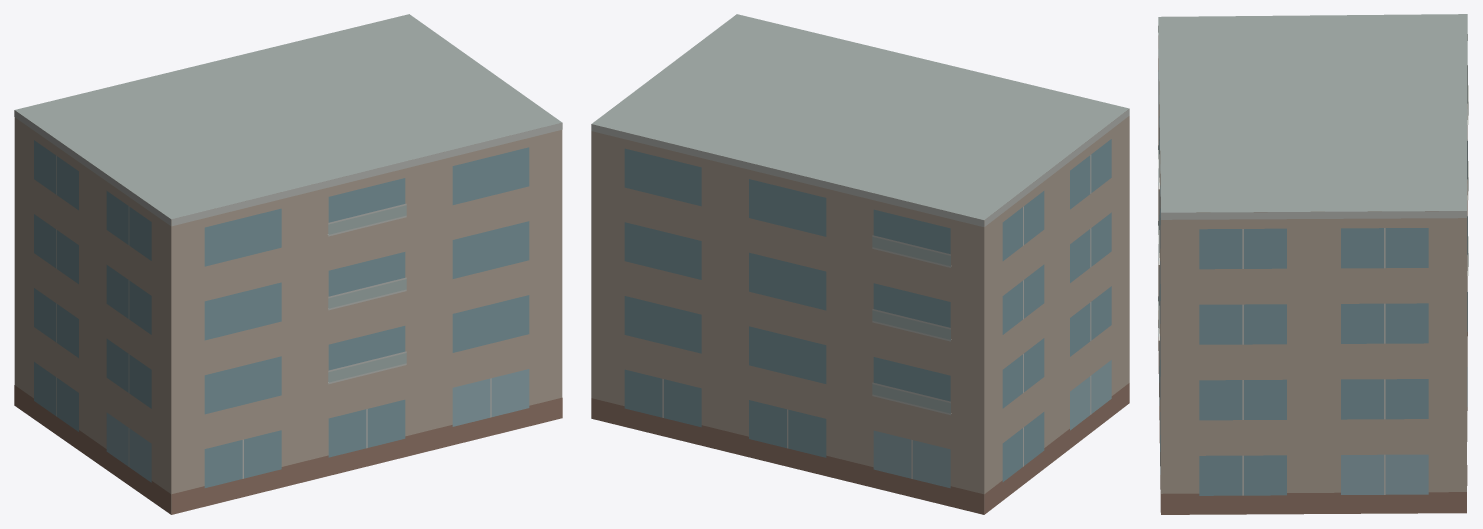
Rendered from survey-upis-33022140.glb.
3 views of the same model, side by side, from view 1: azimuth 30°, elevation 25°; view 2: azimuth 150°, elevation 25°; view 3: azimuth 270°, elevation 25° (orthographic). The views are drawn at different scales.
Visible parts, largest first — view 1: survey-upis-33022140.tmp; view 2: survey-upis-33022140.tmp; view 3: survey-upis-33022140.tmp.
Part boxes in pixels (x1,y1,x2,y2): survey-upis-33022140.tmp: (14,14,562,514); survey-upis-33022140.tmp: (591,14,1129,514); survey-upis-33022140.tmp: (1158,14,1468,514).
Bounding box in the file's own units: 14.39 × 10.2 × 9.51.
